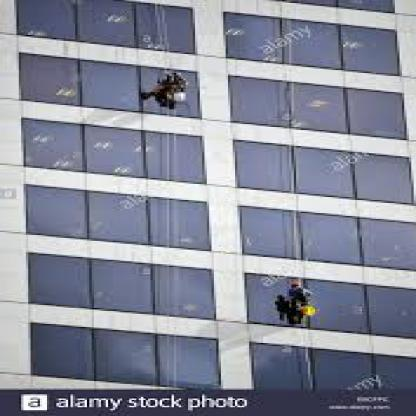window: (16, 51, 84, 107), (338, 22, 404, 77), (134, 3, 200, 55), (80, 57, 141, 112), (141, 67, 204, 118), (282, 19, 343, 71), (224, 13, 284, 64), (75, 0, 139, 47), (16, 0, 80, 41), (338, 0, 395, 12)
